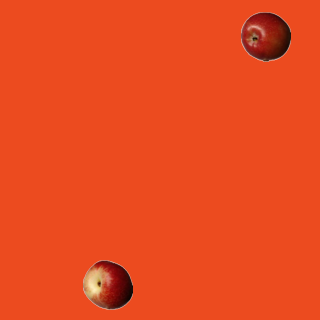Apple Braeburn: (240, 11, 290, 61)
Nectarine: (82, 259, 132, 309)
